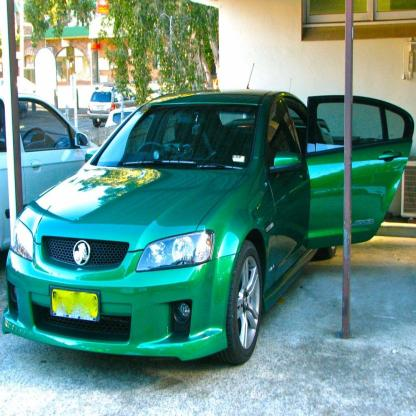Car: (2, 63, 415, 367), (1, 91, 104, 267), (87, 82, 145, 131), (105, 106, 154, 139), (21, 100, 29, 119)
